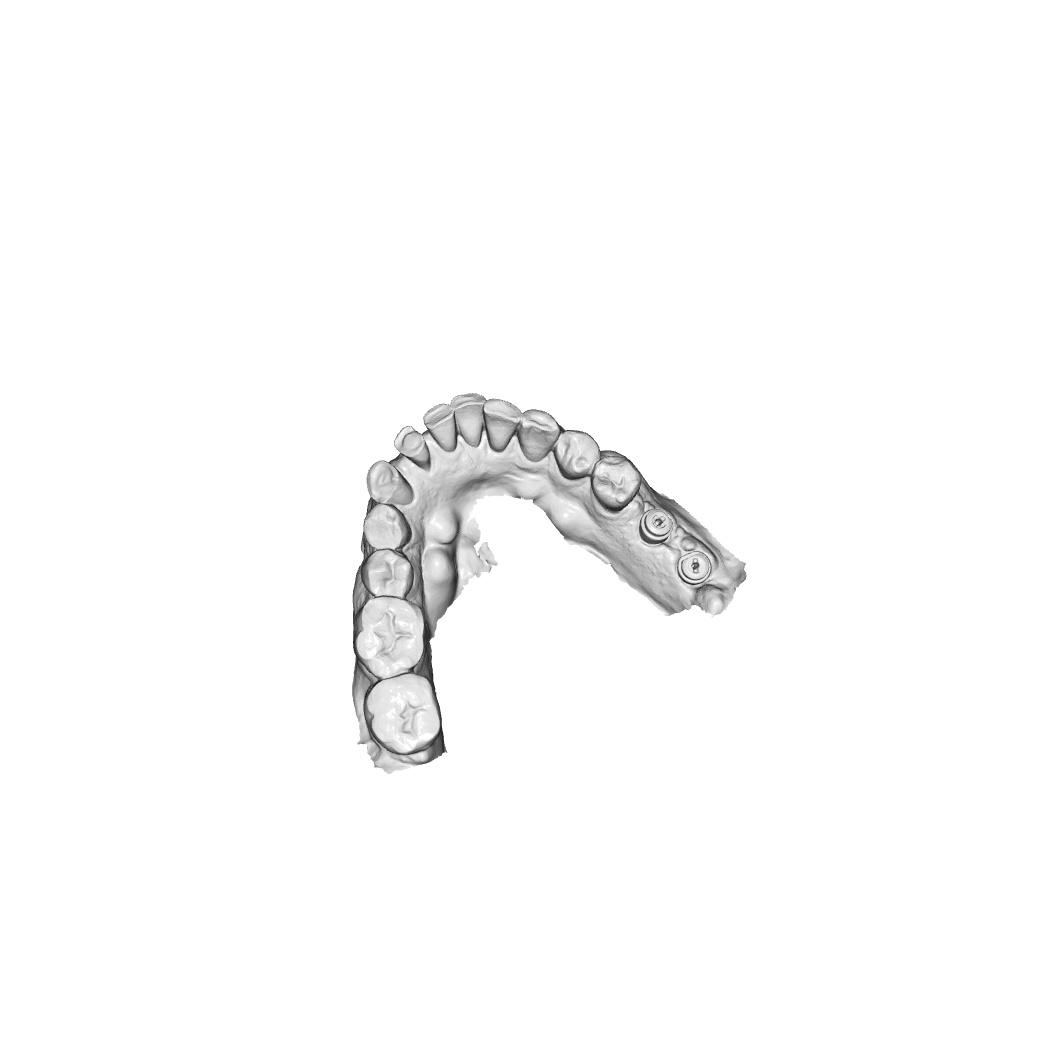canine: (516, 409, 561, 463), (365, 459, 415, 507)
implant_minus: (675, 549, 712, 586)
implant_plus: (639, 508, 674, 546)
incisor: (482, 397, 522, 454), (450, 392, 487, 449), (392, 425, 432, 473), (422, 402, 459, 453)
molar: (362, 671, 443, 758), (352, 594, 427, 681)
premolar: (590, 454, 642, 512), (360, 548, 415, 599), (552, 429, 602, 481), (362, 502, 413, 551)
